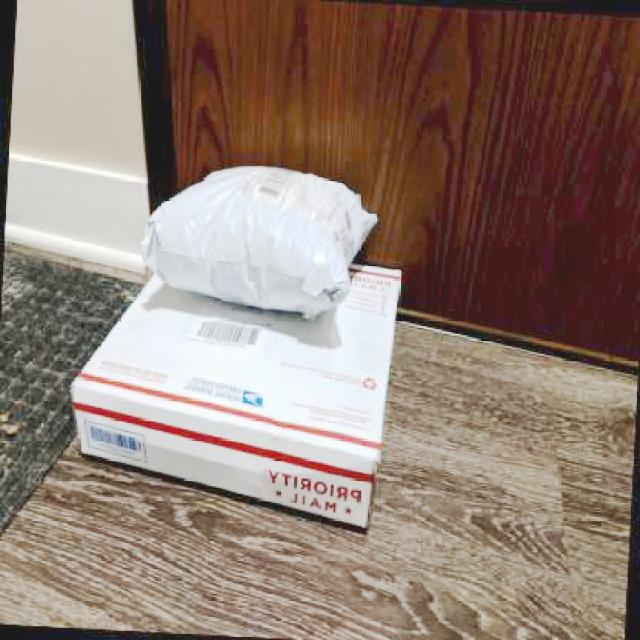Box: (62, 245, 406, 537), (134, 152, 389, 322)
